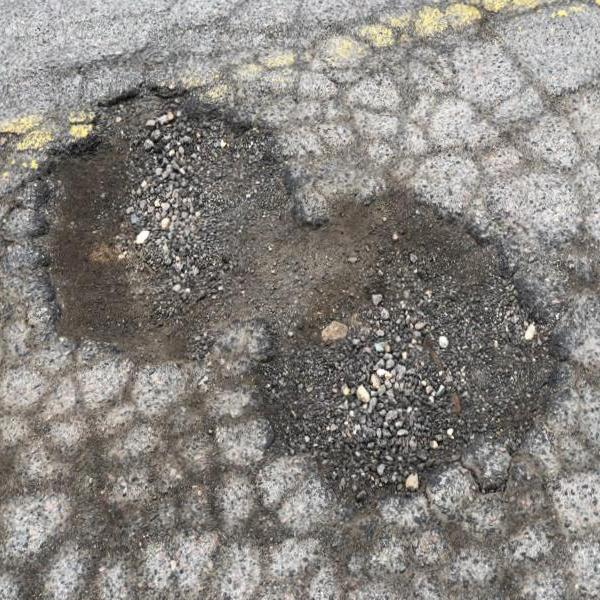pothole: (25, 56, 573, 520)
